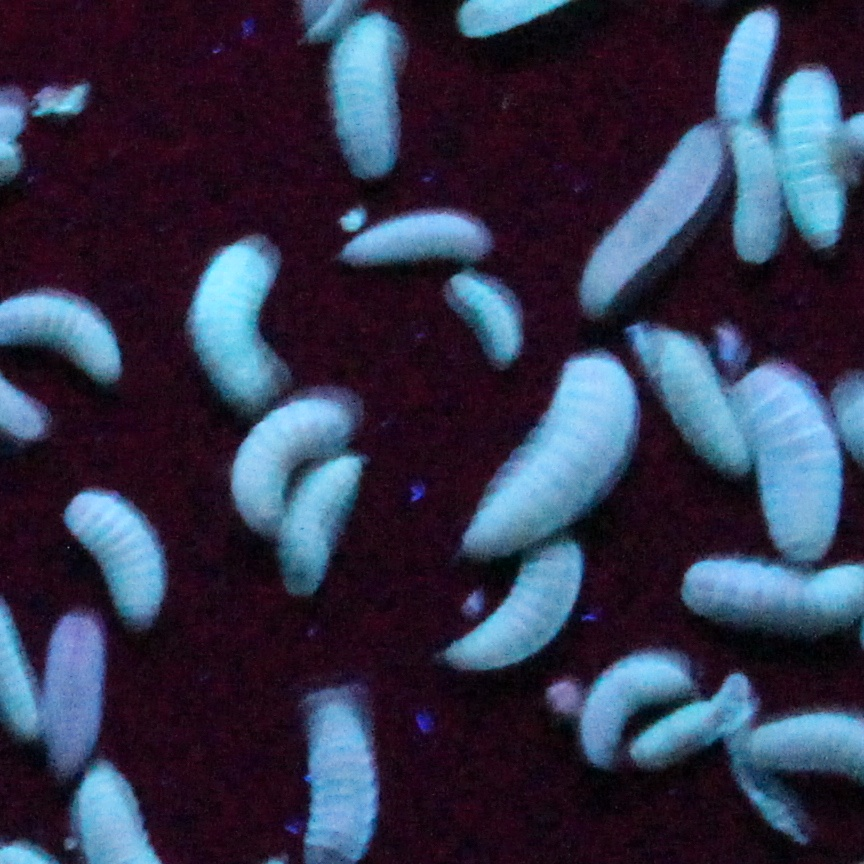larve: (462, 359, 633, 552), (570, 129, 720, 309), (729, 367, 836, 560), (184, 233, 301, 407), (448, 550, 590, 679), (634, 324, 740, 472), (232, 400, 333, 525), (68, 493, 162, 620), (782, 67, 845, 248), (332, 20, 401, 180), (41, 619, 109, 769), (576, 654, 676, 756), (637, 685, 756, 767), (444, 269, 530, 371), (333, 214, 494, 266), (713, 9, 780, 129), (286, 468, 342, 599), (732, 125, 776, 260)
